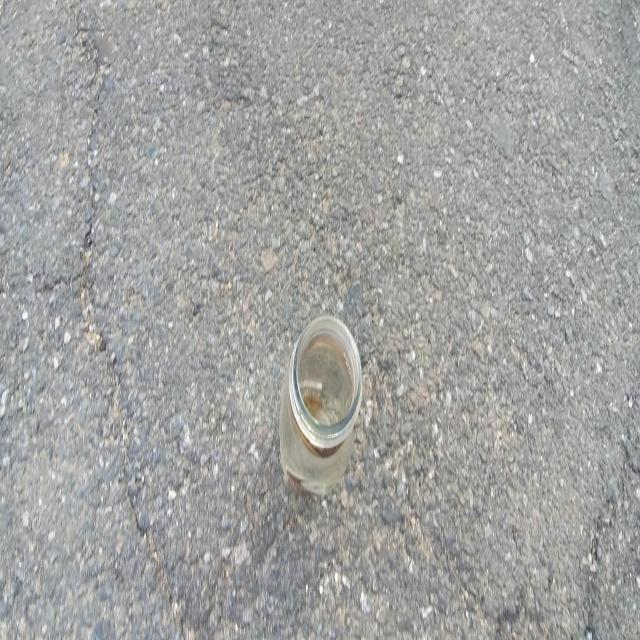glass: (279, 315, 362, 496)
